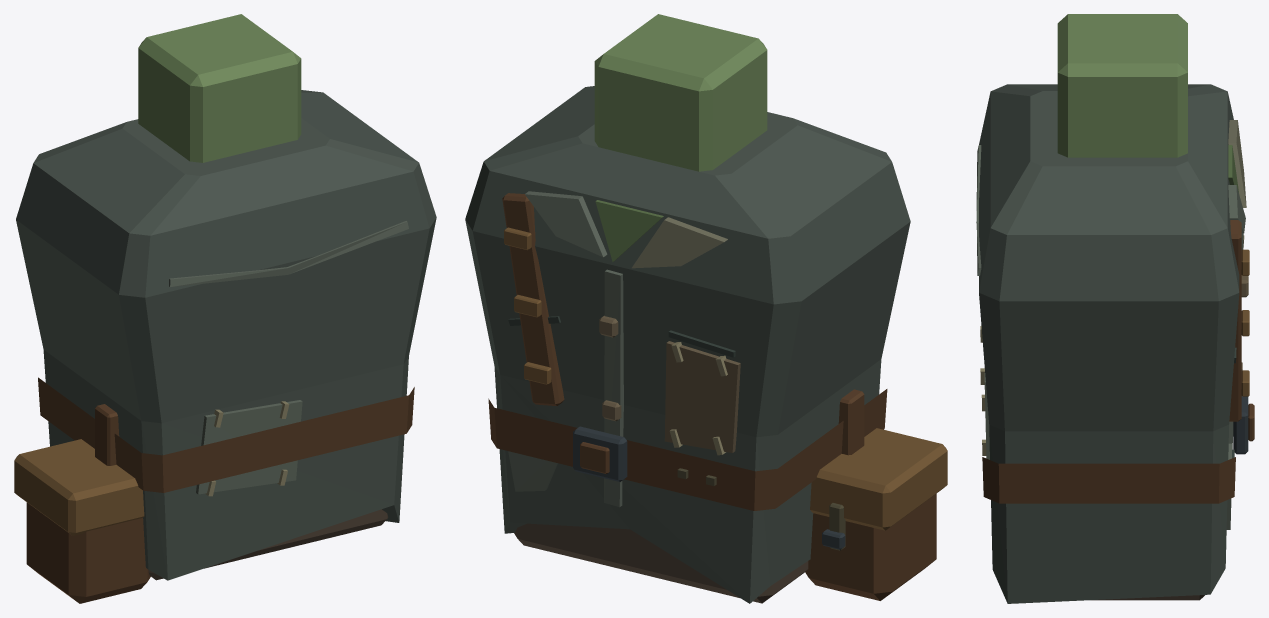
The model's file is Body.glb.
3 views of the same model, side by side, from view 1: azimuth 30°, elevation 25°; view 2: azimuth 150°, elevation 25°; view 3: azimuth 270°, elevation 25° (orthographic). The views are drawn at different scales.
Parts seen in each view (by area): view 1: Sculpture; view 2: Sculpture; view 3: Sculpture.
Part boxes in pixels (x1,y1,x2,y2): Sculpture: [14, 14, 436, 603]; Sculpture: [465, 14, 947, 603]; Sculpture: [976, 14, 1254, 603].
Size of the model in its own units: 0.647 by 0.825 by 0.4055.
